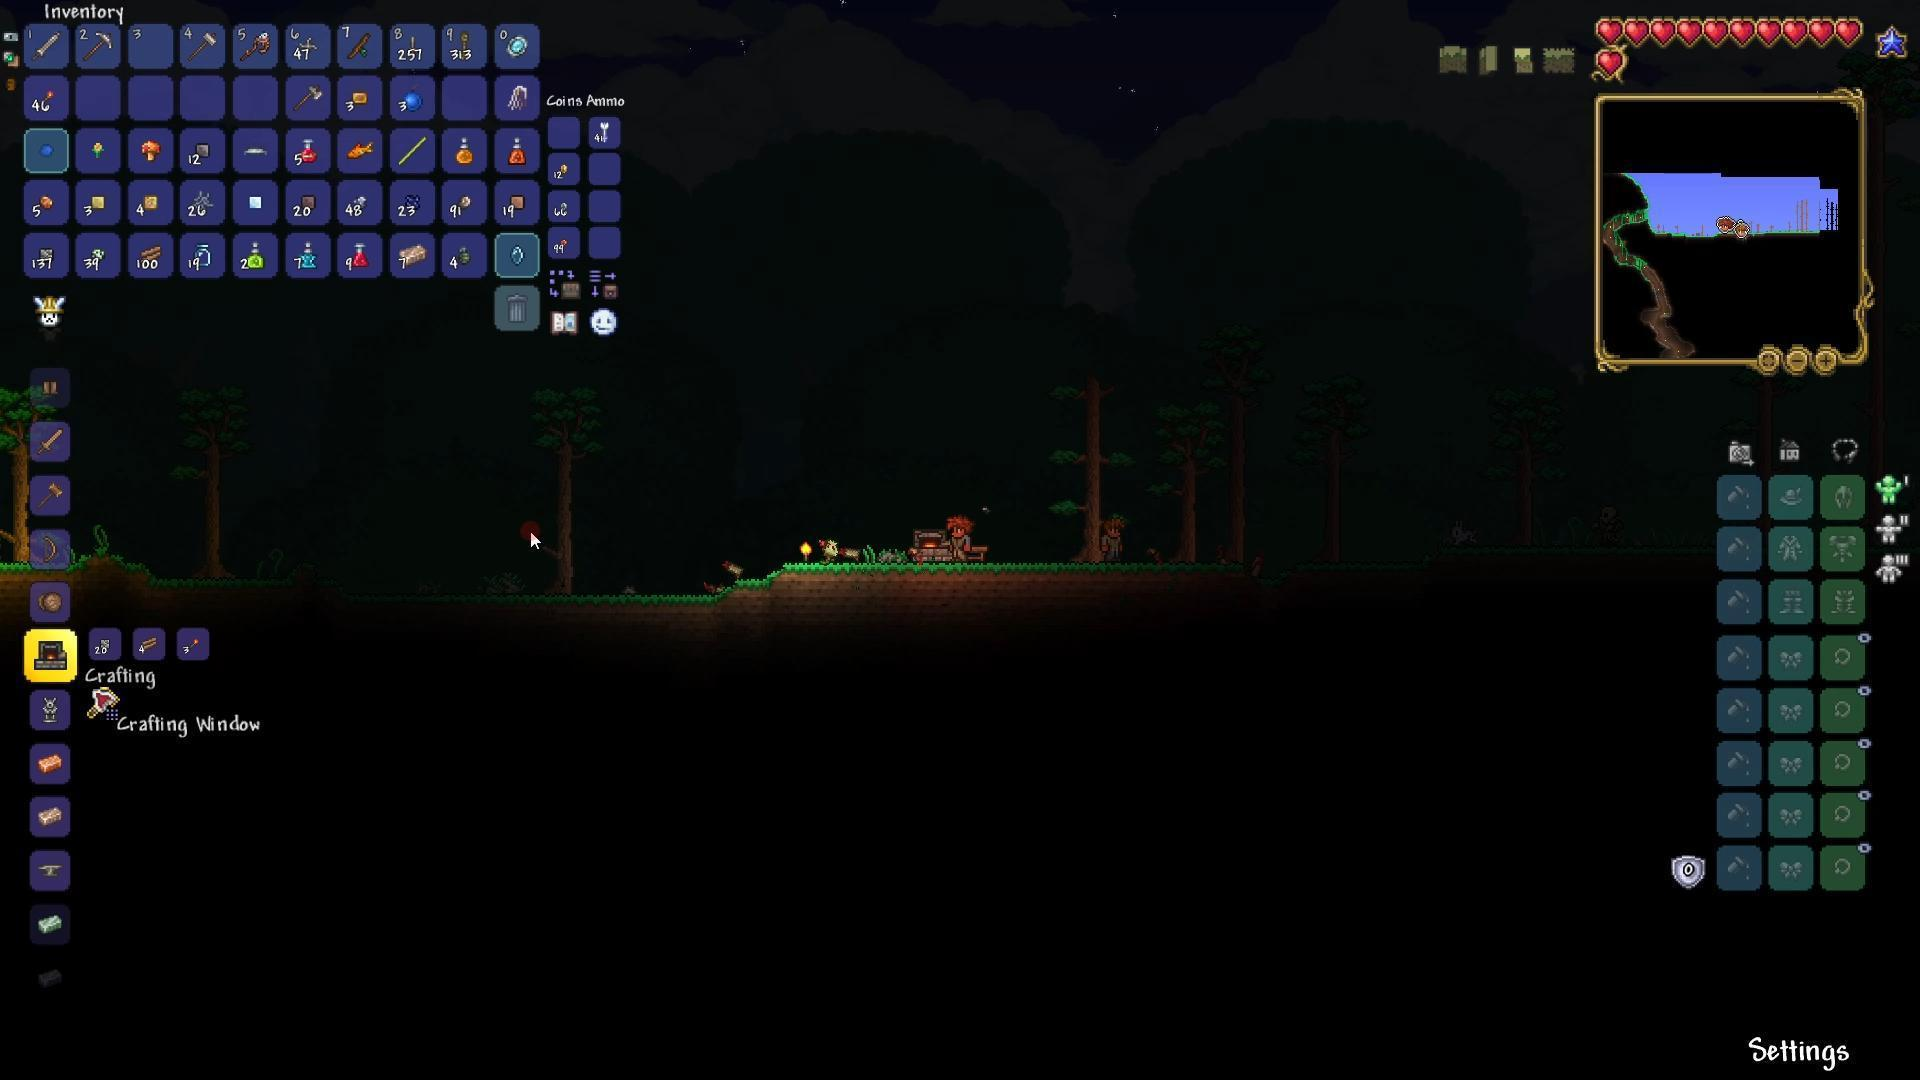anvil: (37, 858, 65, 881)
axe: (287, 79, 326, 112)
cobwebI: (190, 186, 215, 216)
furnace: (906, 524, 964, 571), (33, 638, 71, 675)
lens: (512, 243, 525, 265)
wood: (140, 239, 166, 266), (138, 630, 161, 651)
